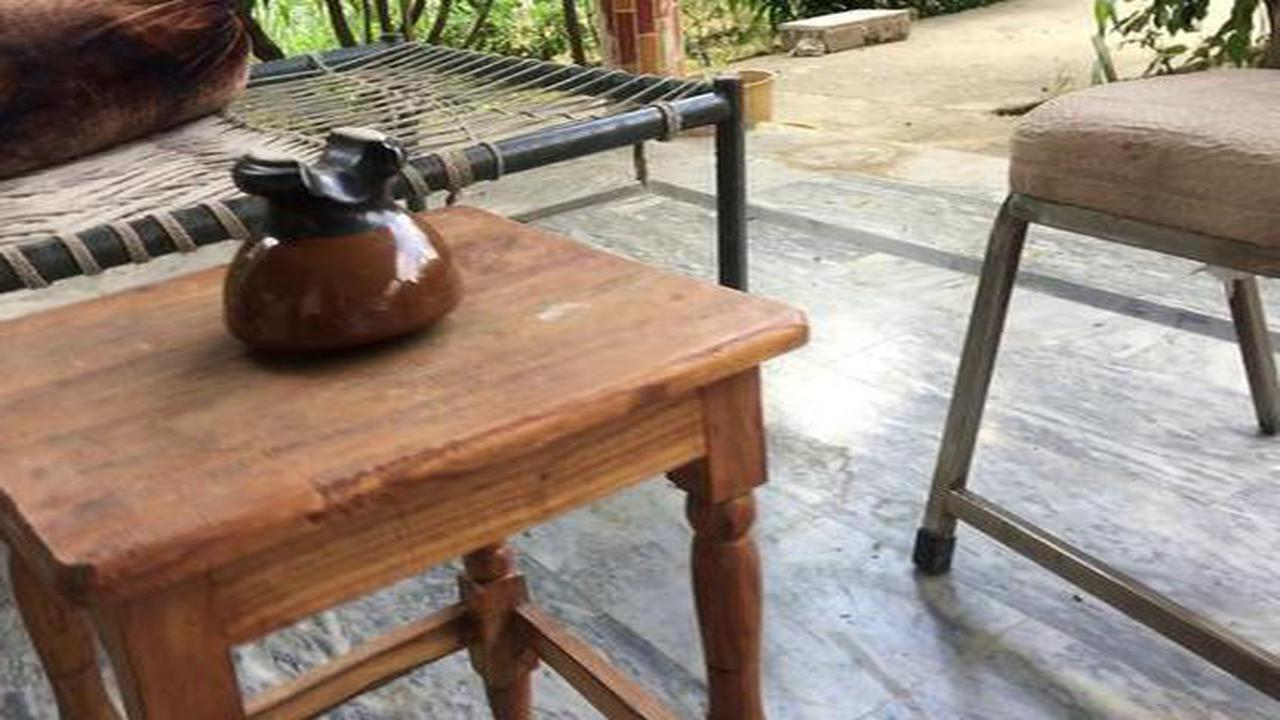insulator_pin: (188, 106, 487, 373)
